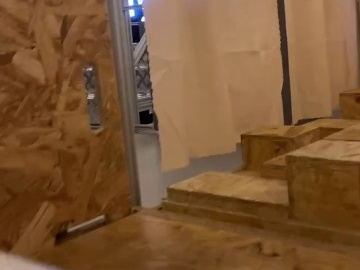curtain: (108, 0, 360, 163)
